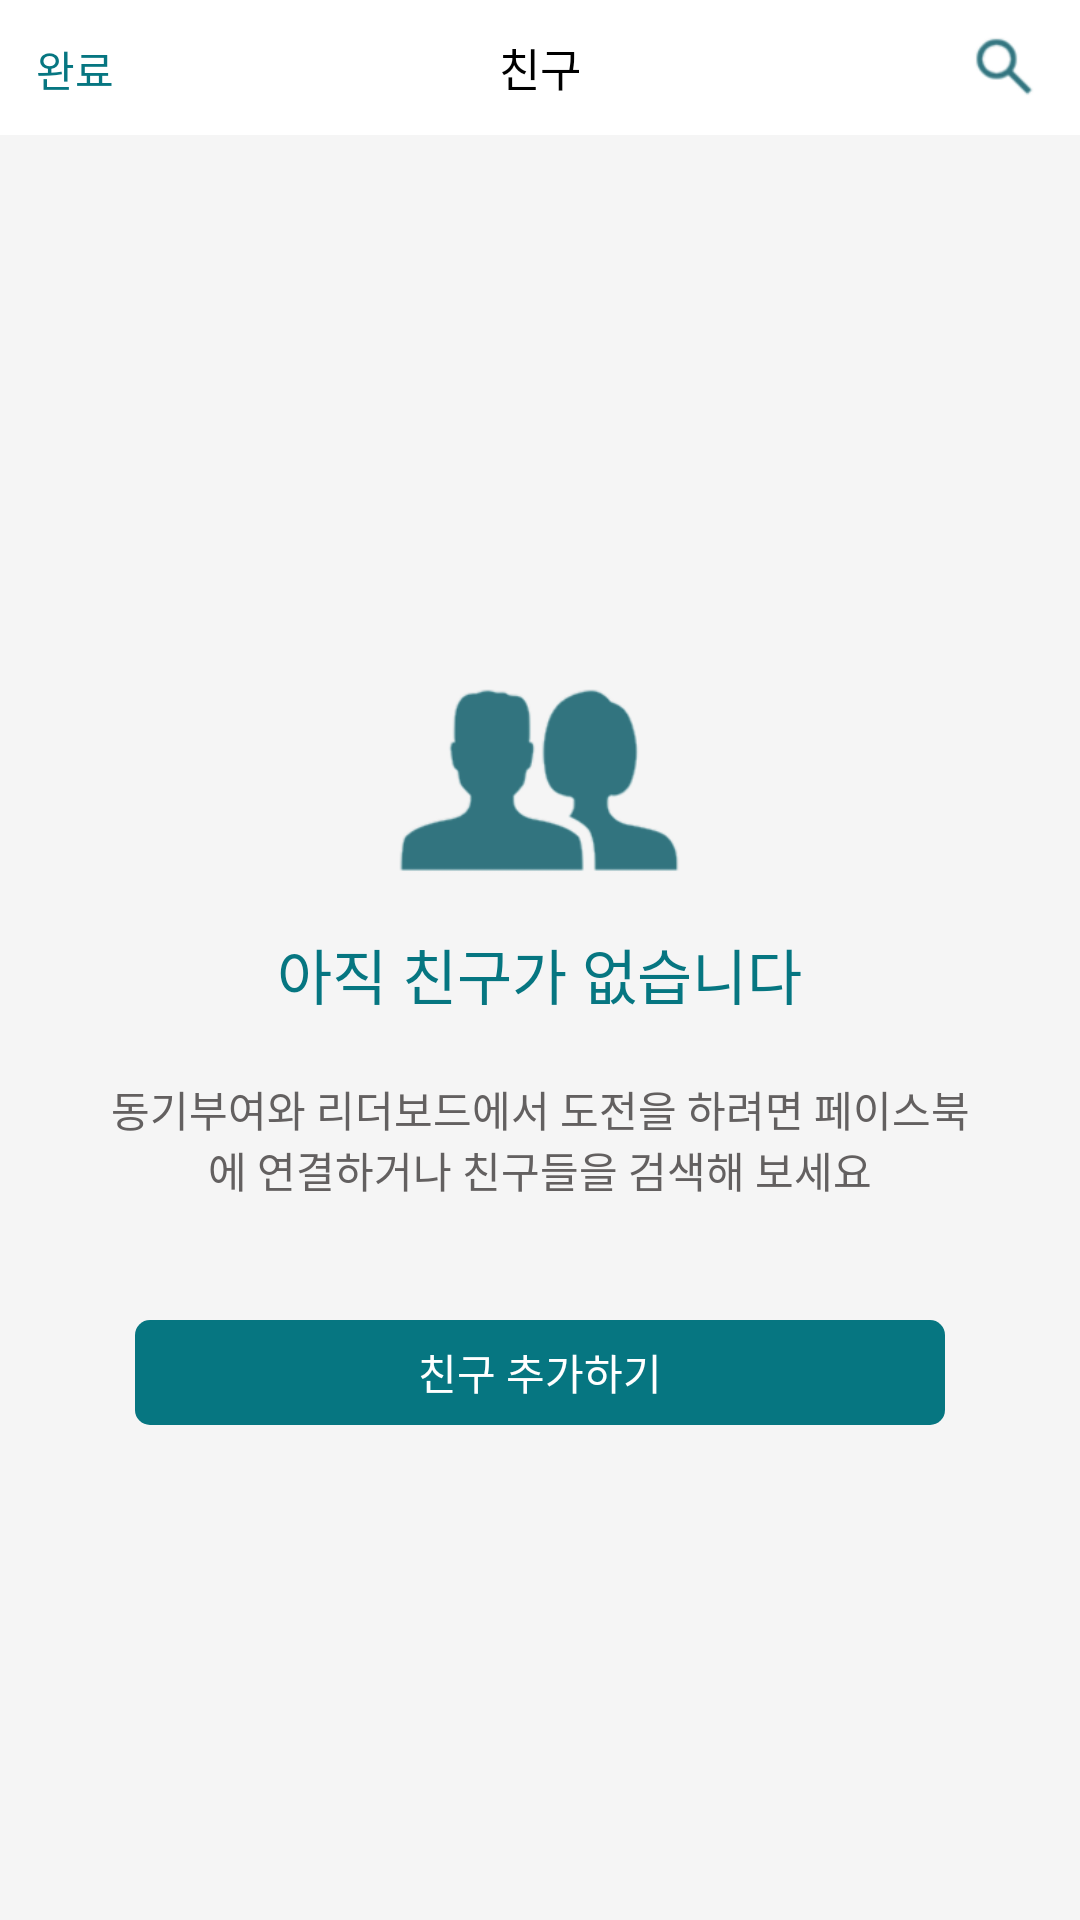

Screen size 1080 × 1920. Icon name, then its center in pixels as (x=x, y=y):
friend find: (x=1004, y=66)
friend man and girl: (x=539, y=780)
